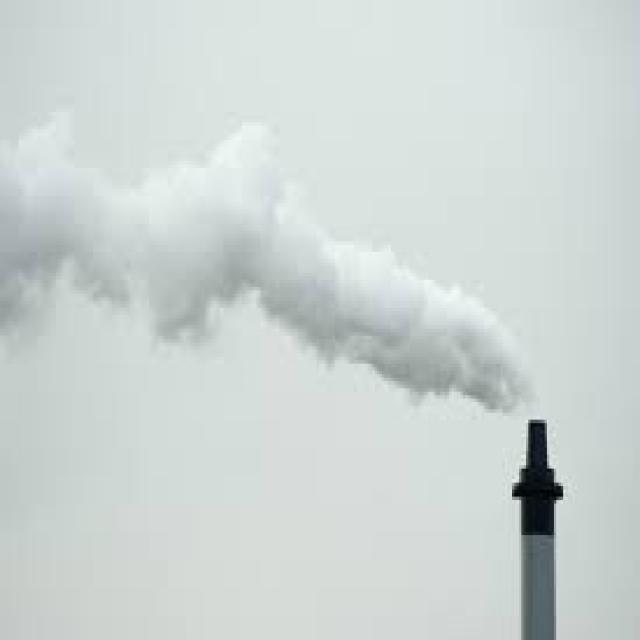Smoke: (0, 103, 544, 420)
